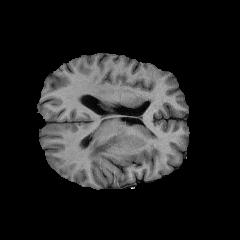glioma: (85, 125, 126, 160)
